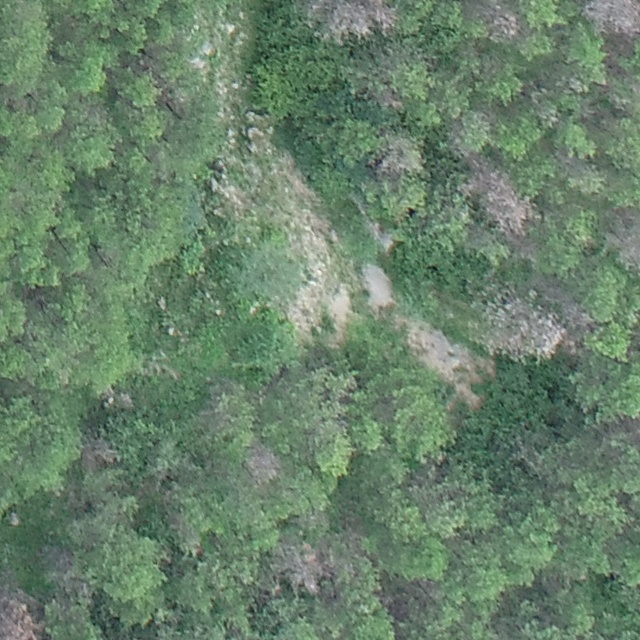unhealthy: (490, 293, 566, 361), (473, 165, 535, 235), (272, 540, 328, 595), (317, 0, 374, 40), (371, 134, 424, 177), (0, 588, 43, 639), (584, 0, 640, 39), (605, 213, 639, 275), (244, 443, 283, 485), (481, 5, 523, 40), (79, 435, 121, 469), (559, 299, 596, 332), (97, 383, 135, 412), (366, 0, 398, 34), (374, 86, 404, 110)
